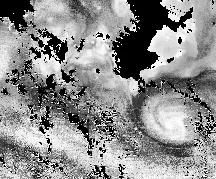CE: (130, 81, 199, 150)
